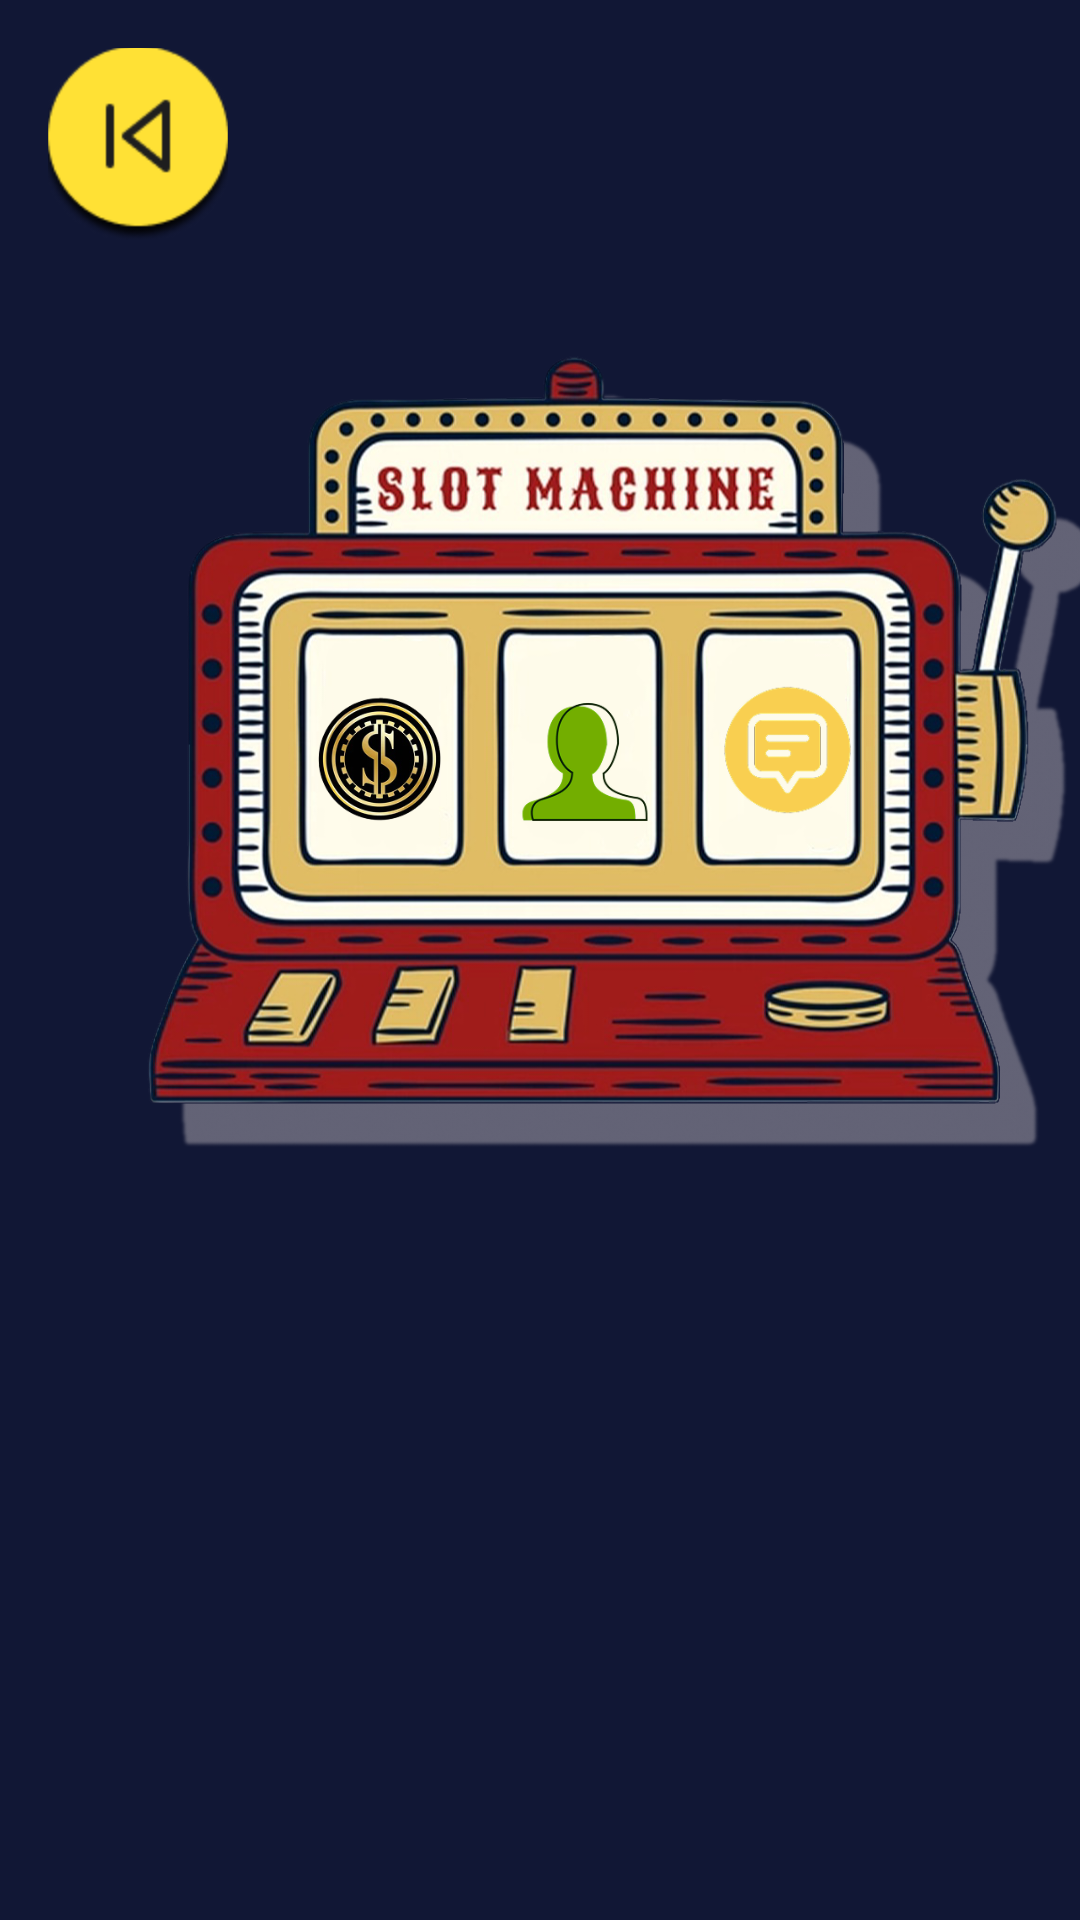

Screen size 1080×1920. Icon name, then its center in pixels as (x=x, y=y):
chat: (x=787, y=750)
girar moneda: (x=379, y=765)
jugadores: (x=585, y=762)
Volver: (x=138, y=141)
